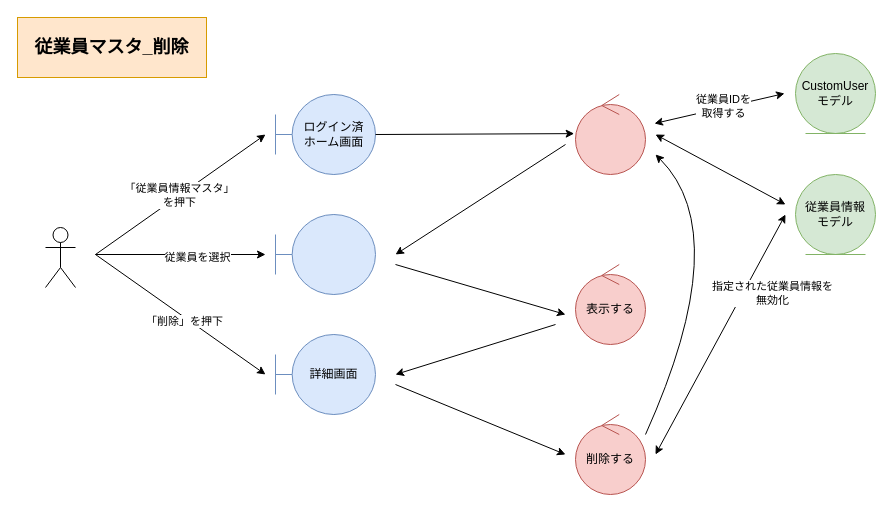
Some shapes in this 893 by 512 pixel diagram are drawn without their labels. Each missing label, with the box of its shape:
従業員情報 を取得する: (574, 94, 646, 174)
従業員情報 一覧画面: (274, 214, 376, 294)
正規社員: (44, 226, 76, 288)
